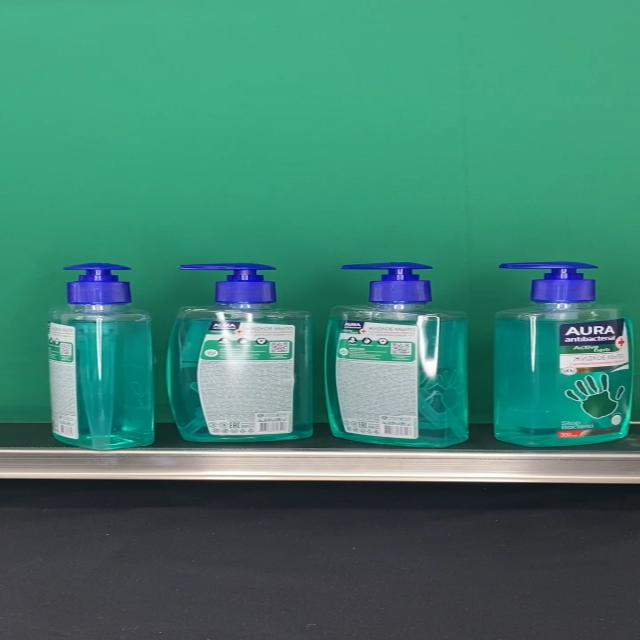Bottle: (326, 262, 468, 448), (167, 263, 313, 443), (494, 261, 633, 447), (48, 262, 154, 450)
Cap: (499, 261, 599, 303), (182, 263, 278, 304), (341, 262, 432, 304), (63, 263, 131, 304)
